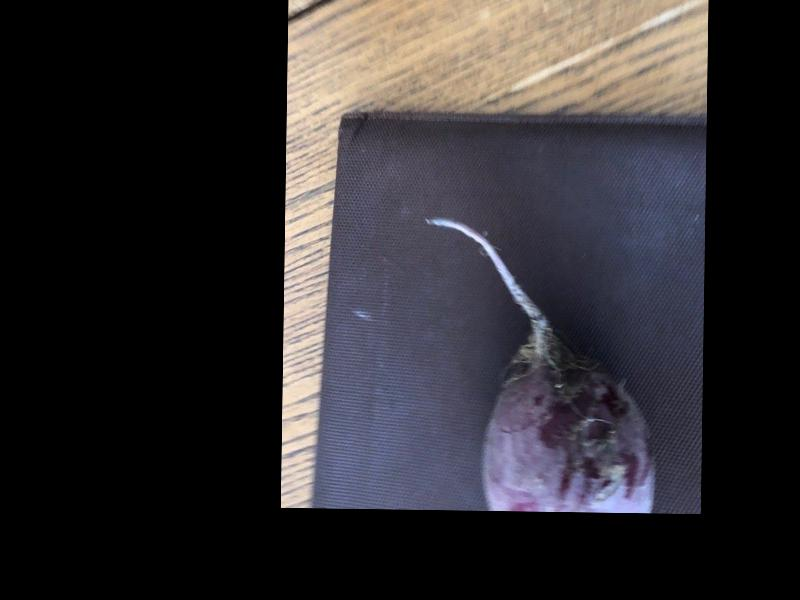Beet: (423, 217, 658, 511)
